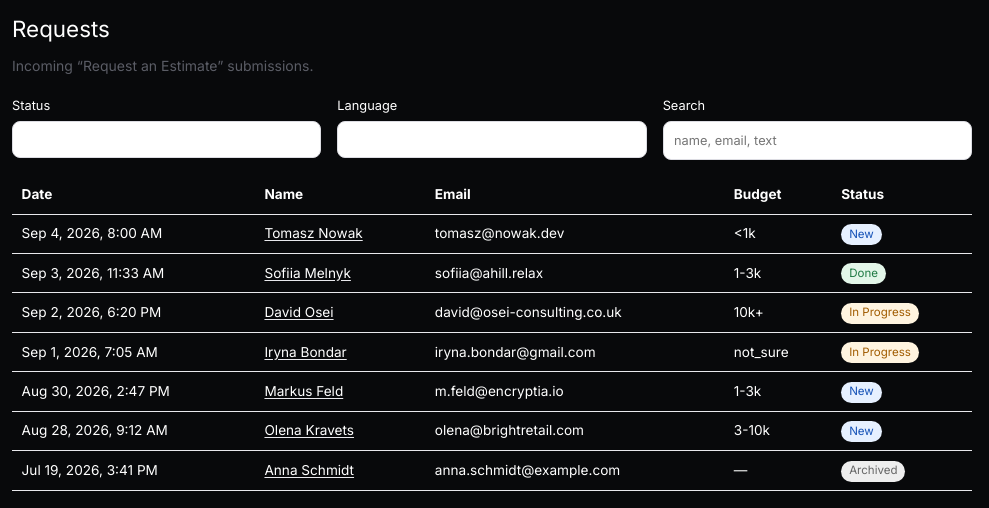
Test case: RequestsPage › lists requests from the server and filters by status
This screenshot has width=989, height=508.
Check: the button "Olena Kravets" is shown, box [264, 420, 416, 442]
Check: the button "Tomasz Nowak" is shown, box [264, 223, 416, 244]
Select "archived" in the dropdown labelled "Status" at (167, 139), box [12, 121, 321, 158]
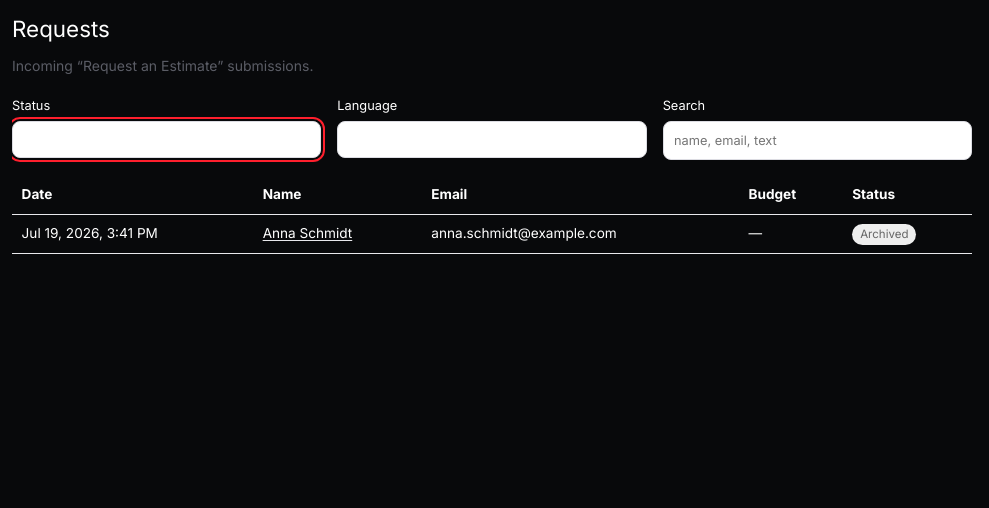
Check: the button "Anna Schmidt" is shown, box [263, 223, 412, 244]
Check: the button "Olena Kravets" is gone
